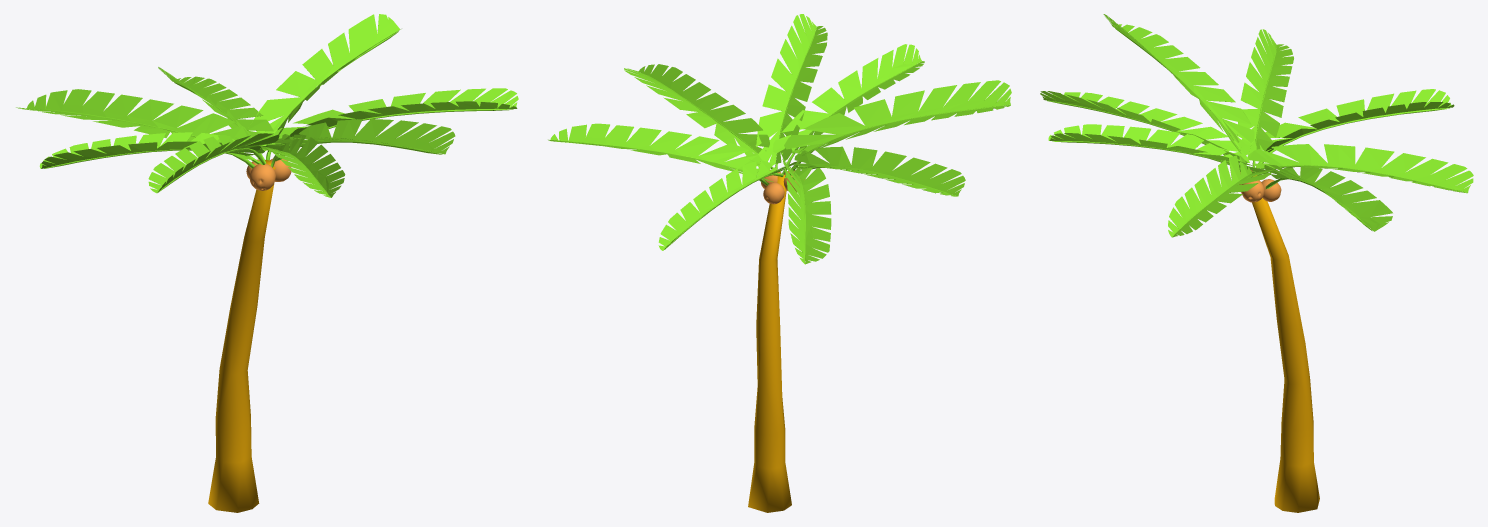
The model's file is palmier2.dae.
3 views of the same model, side by side, from view 1: azimuth 30°, elevation 25°; view 2: azimuth 150°, elevation 25°; view 3: azimuth 270°, elevation 25° (orthographic). The views are drawn at different scales.
Visible parts, largest first — view 1: leafs, palm tree, coconuts; view 2: leafs, palm tree, coconuts; view 3: leafs, palm tree, coconuts.
Boxes of the visible parts, box(x1,y1,x2,y2) form: leafs: box(16, 14, 518, 197); palm tree: box(208, 160, 275, 512); coconuts: box(246, 158, 291, 190); leafs: box(548, 14, 1011, 264); palm tree: box(748, 175, 791, 512); coconuts: box(761, 169, 805, 204); leafs: box(1040, 14, 1473, 237); palm tree: box(1252, 175, 1319, 512); coconuts: box(1239, 170, 1281, 202).
Size of the model in its own units: 16.24 by 15.13 by 16.01.
